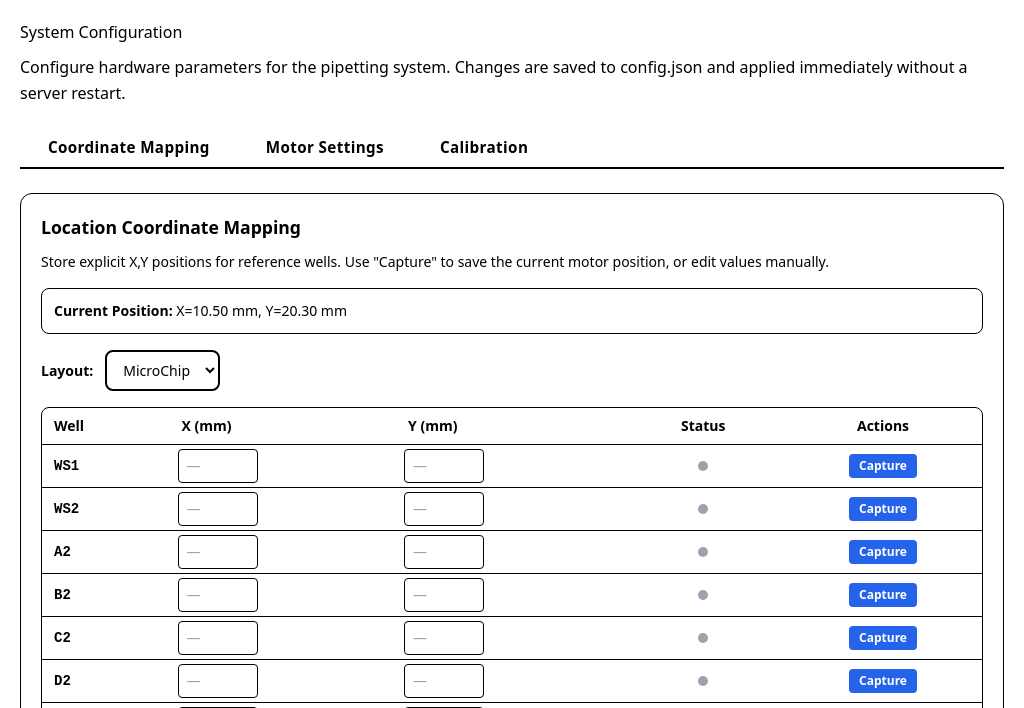
Scenario: Motor Settings › renders operation parameters section
Click the button "Motor Settings".
click(325, 147)  # box top-left (238, 126), bottom-right (412, 169)
(page scrolled)
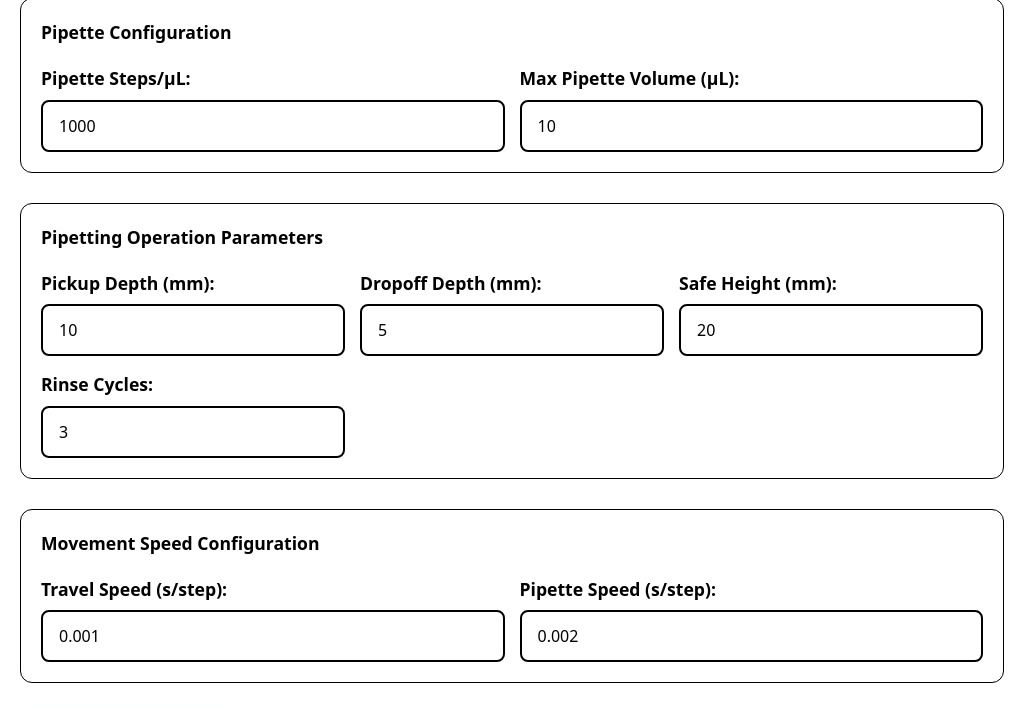
Expected: the heading "Pipetting Operation Parameters" is shown, top-left (41, 224), bottom-right (323, 248)
Expected: the text "Pickup Depth (mm):" is shown, top-left (41, 271), bottom-right (214, 295)
Expected: the text "Dropoff Depth (mm):" is shown, top-left (360, 271), bottom-right (542, 295)
